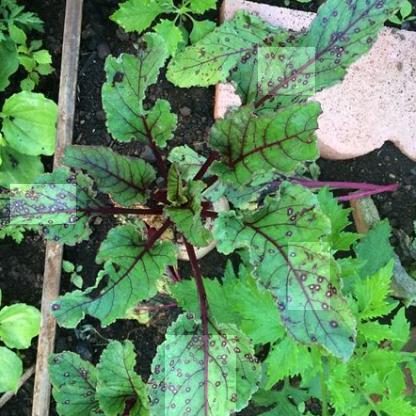black-spot: (165, 335, 236, 416), (288, 242, 330, 310), (258, 47, 315, 95), (10, 184, 76, 224), (325, 0, 366, 46)
